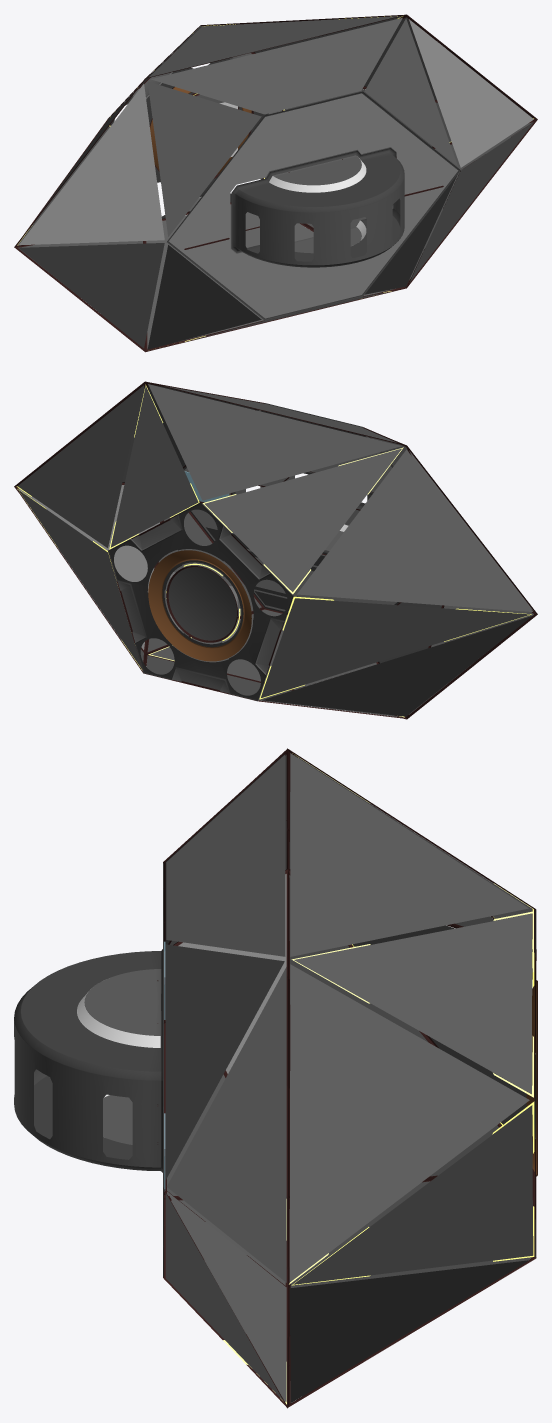
Rendered from locker_room_main.fbx.
3 renders of one model, top to bottom at view 1: azimuth 30°, elevation 25°; view 2: azimuth 150°, elevation 25°; view 3: azimuth 270°, elevation 25°, orthographic. The views are drawn at different scales.
Visible parts, largest first — view 1: 41.005, 43.005, 45.005, 74.005, 87.004, 84.005, 22.006, 80.005, 86.004, 88.004, 115.003; view 2: 74.005, 115.003, 41.005, 101.005, 117.003, 105.005, 45.005, 53.004, 43.005, glowing_bits, 76.005, 107.005 (+4 smaller); view 3: 74.005, 41.005, 43.005, 45.005, 87.004, 84.005, 22.006, 53.004, 86.004, glowing_bits, 88.004, 80.005 (+1 smaller).
Part boxes in pixels (bbox=[...]): 41.005: bbox=[19, 19, 533, 348]; 43.005: bbox=[147, 18, 457, 349]; 45.005: bbox=[151, 17, 402, 341]; 74.005: bbox=[18, 16, 532, 348]; 87.004: bbox=[235, 155, 404, 265]; 84.005: bbox=[239, 152, 400, 261]; 22.006: bbox=[14, 14, 537, 351]; 80.005: bbox=[167, 91, 460, 320]; 86.004: bbox=[235, 153, 404, 267]; 88.004: bbox=[269, 158, 366, 240]; 115.003: bbox=[108, 25, 268, 218]; 74.005: bbox=[17, 384, 532, 717]; 115.003: bbox=[108, 502, 292, 701]; 41.005: bbox=[18, 385, 533, 714]; 101.005: bbox=[168, 567, 236, 640]; 117.003: bbox=[117, 515, 283, 693]; 105.005: bbox=[148, 550, 251, 661]; 45.005: bbox=[150, 385, 397, 689]; 53.004: bbox=[14, 381, 537, 719]; 43.005: bbox=[147, 384, 441, 663]; glowing_bits: bbox=[16, 384, 531, 699]; 76.005: bbox=[206, 410, 366, 610]; 107.005: bbox=[162, 560, 243, 647]; 74.005: bbox=[289, 753, 532, 1402]; 41.005: bbox=[167, 754, 286, 1401]; 43.005: bbox=[165, 754, 284, 1399]; 45.005: bbox=[166, 754, 285, 1402]; 87.004: bbox=[14, 969, 161, 1167]; 84.005: bbox=[21, 951, 161, 1159]; 22.006: bbox=[288, 749, 536, 1407]; 53.004: bbox=[163, 748, 287, 1408]; 86.004: bbox=[14, 951, 161, 1170]; glowing_bits: bbox=[289, 753, 534, 1285]; 88.004: bbox=[77, 980, 160, 1097]; 80.005: bbox=[161, 862, 163, 1277].
Bounding box in the file's own units: 3208 × 1604 × 1690.
